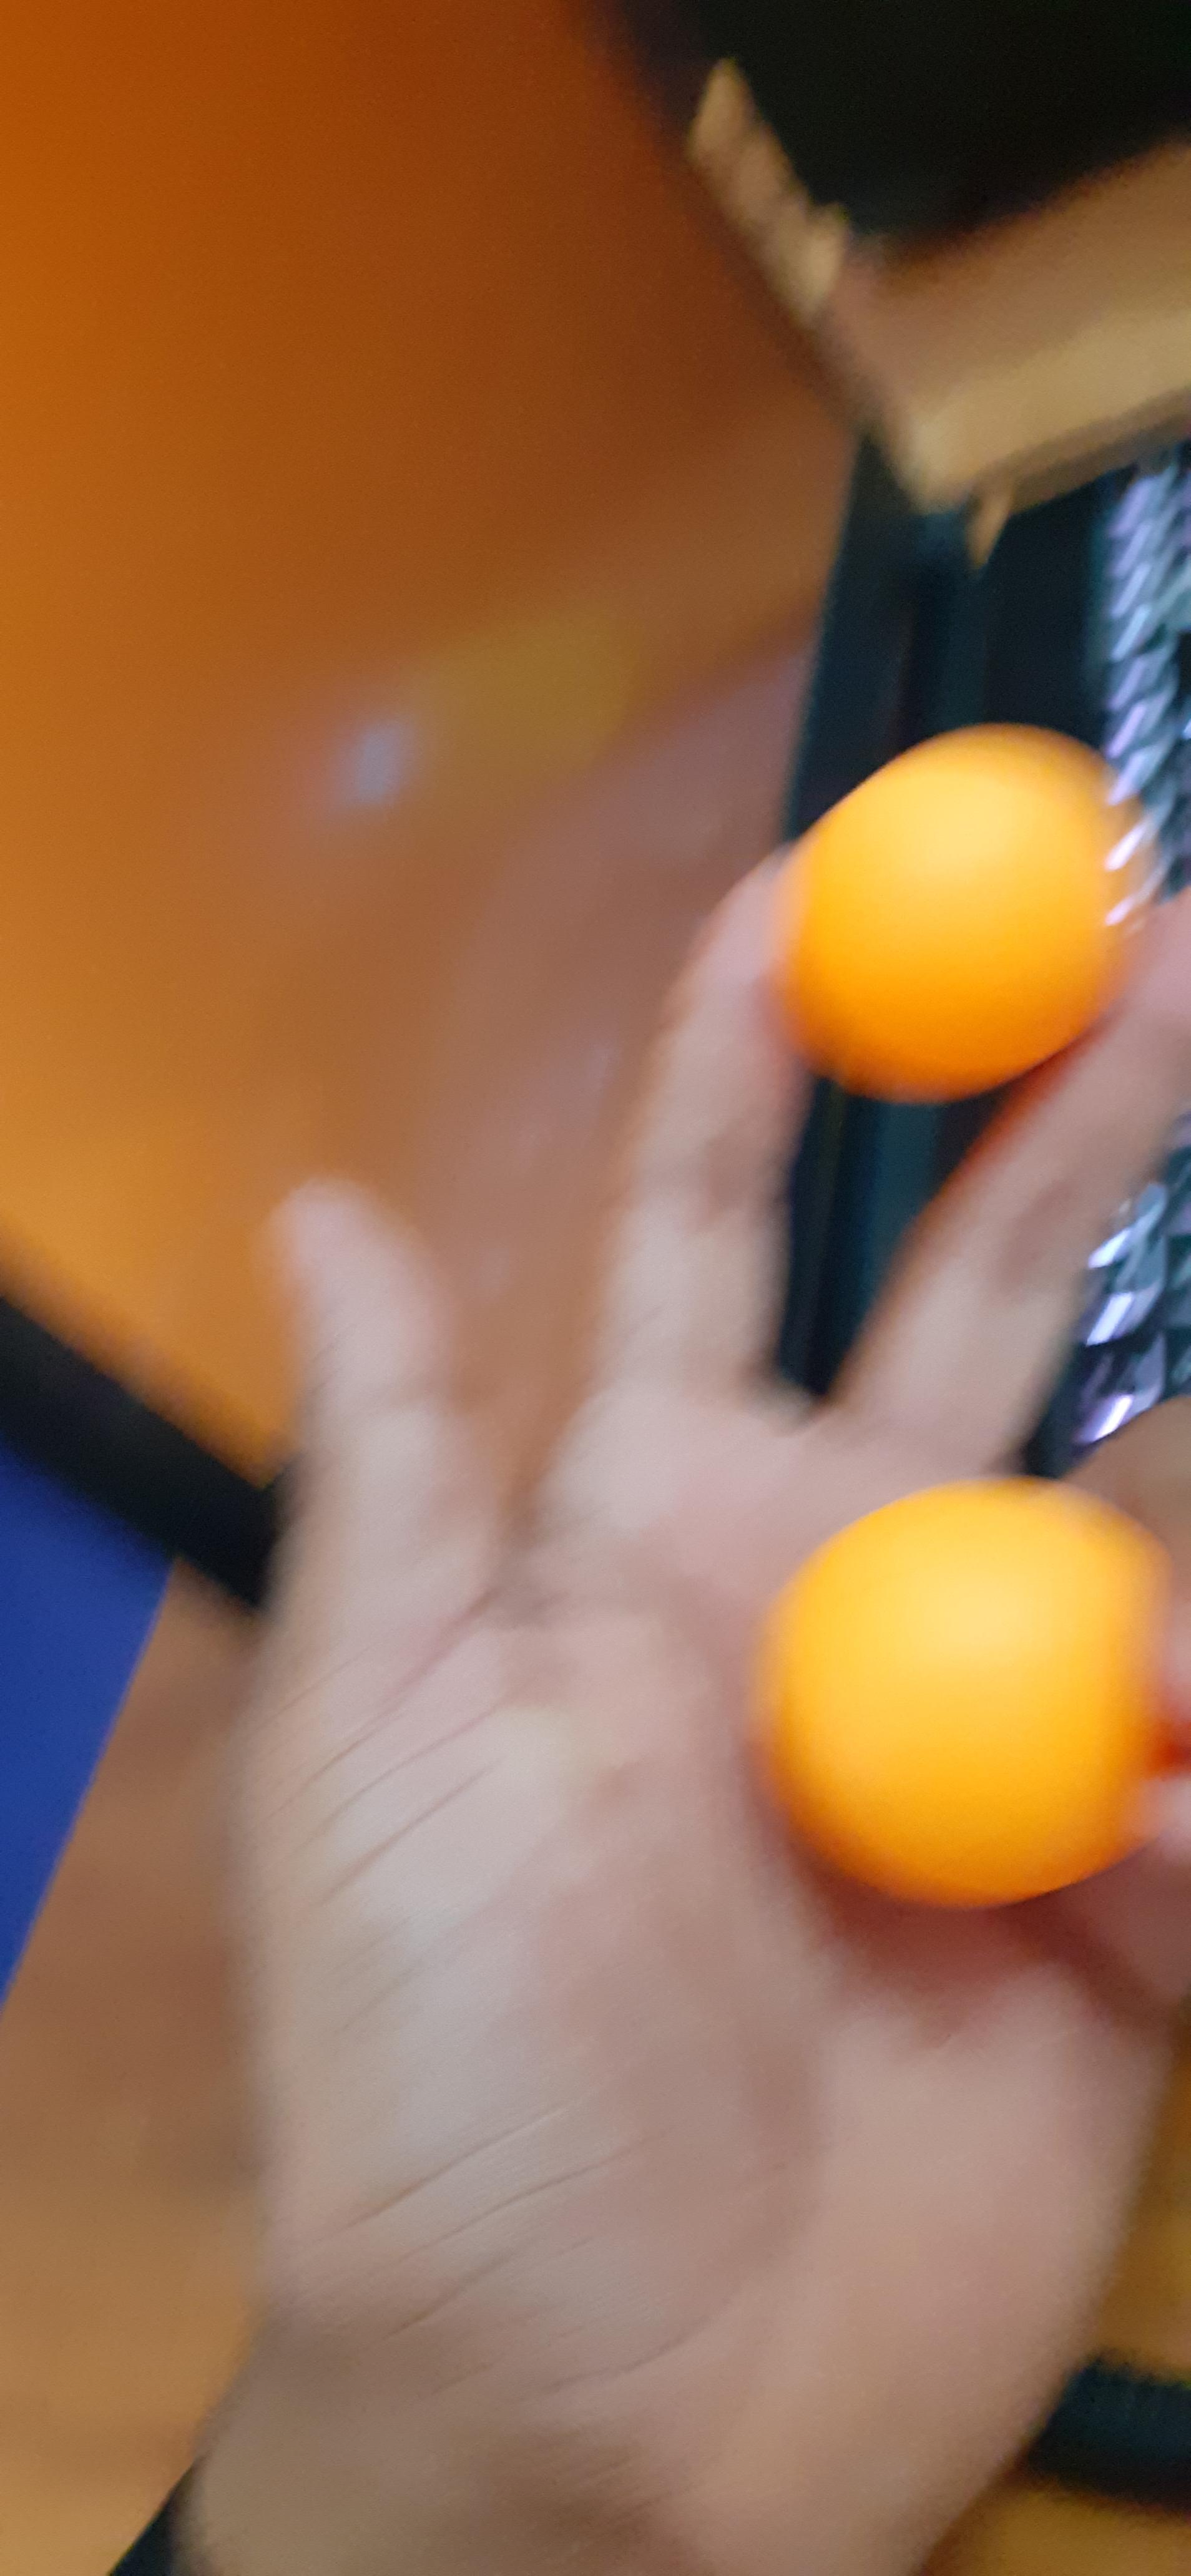orange: (746, 1475, 1171, 1914), (784, 723, 1134, 1089)
